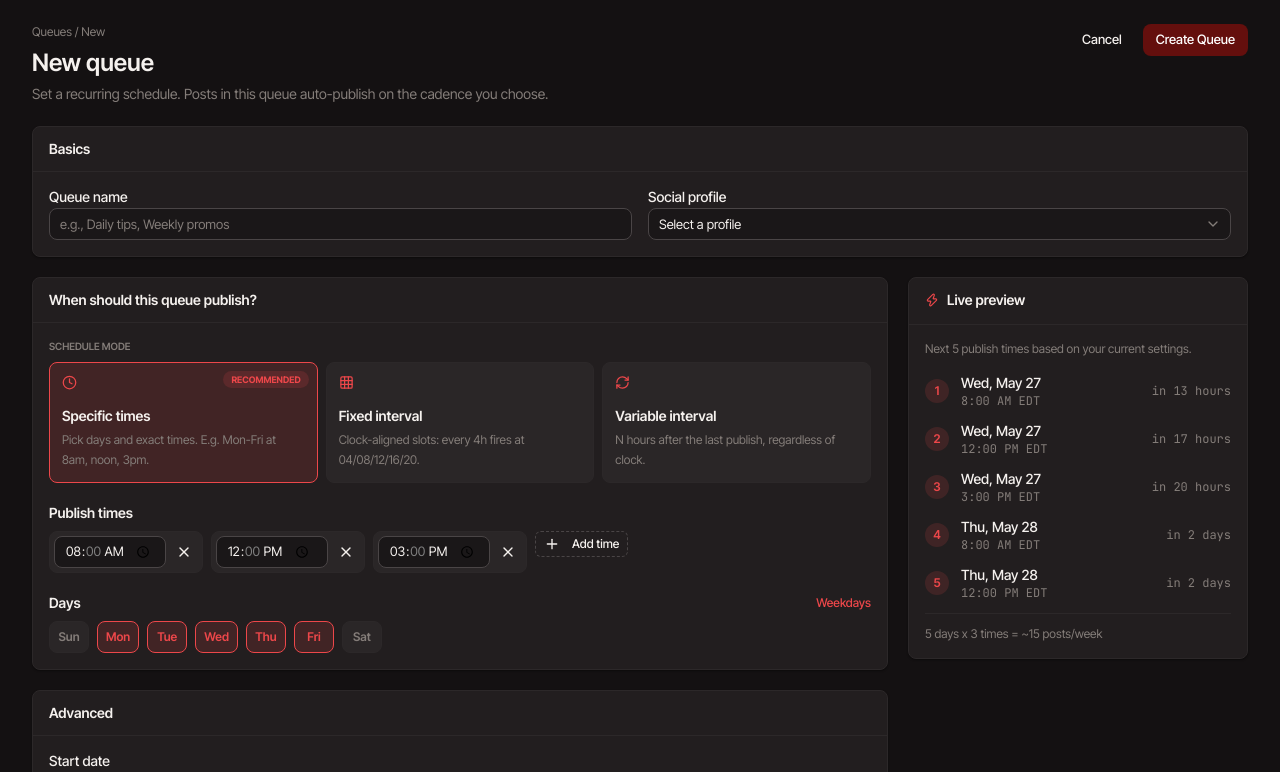
Test: QueueFormPage › rejects manually typed non-hour publish times before saving
Type "CMW Promotions" into the field labelled "Queue name" at x=340, y=224, box [49,208,632,240]
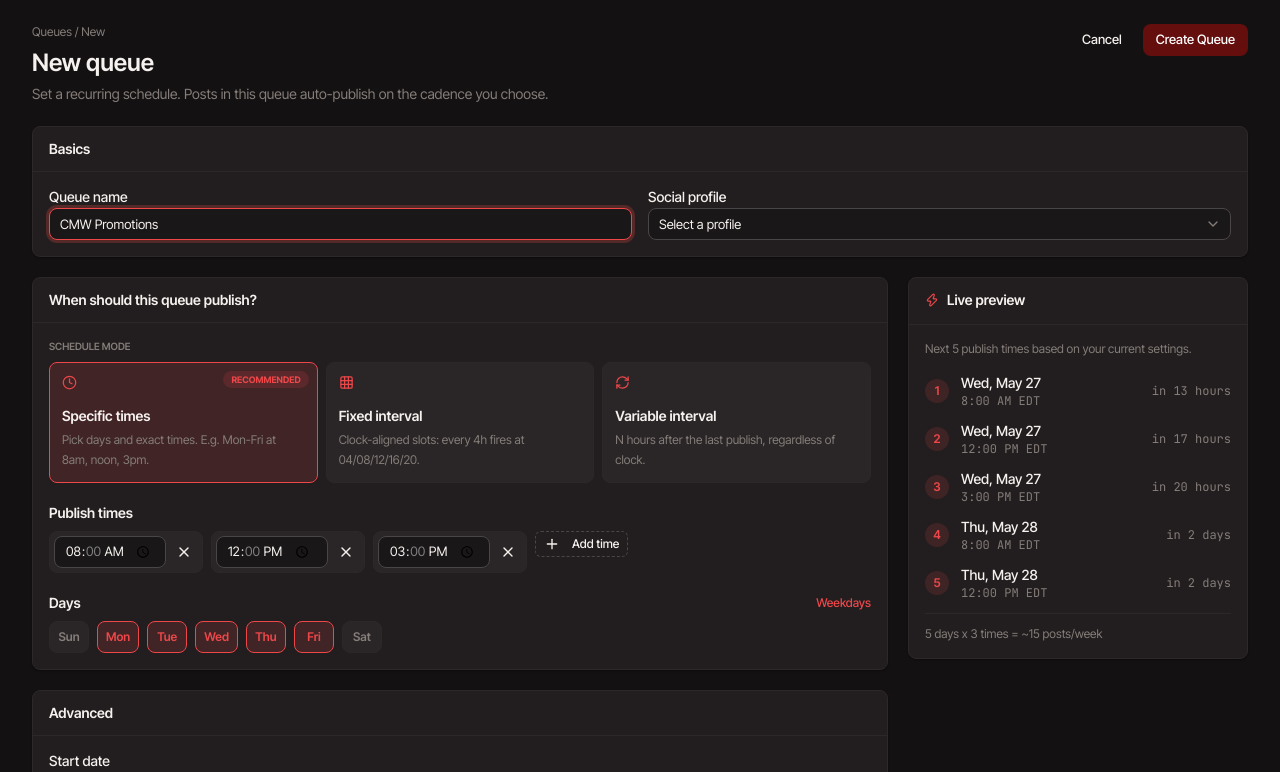
Select "Test Profile (@testprofile)" in the dropdown named "Select a profile" at x=940, y=224, box [648,208,1231,240]
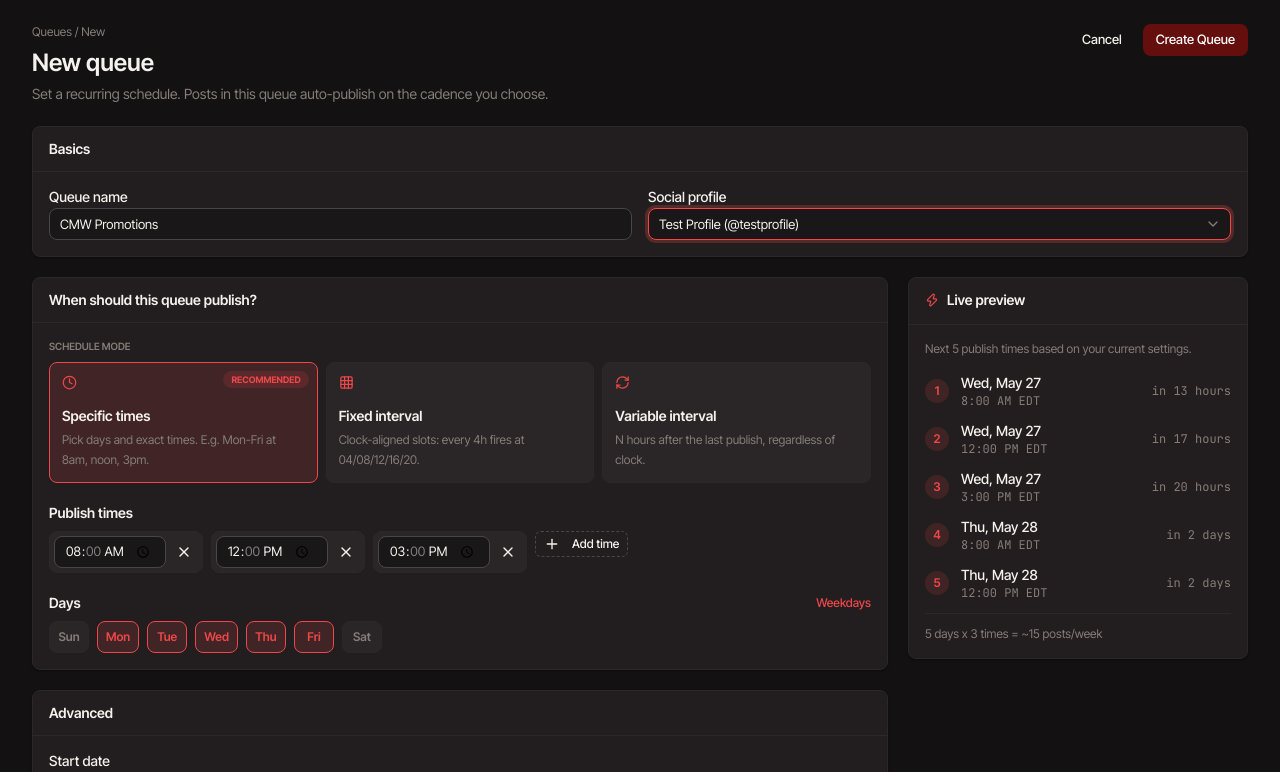
Replace the text in the time field named "Publish time 1" with "10:30" at x=110, y=552, box [54,536,166,568]
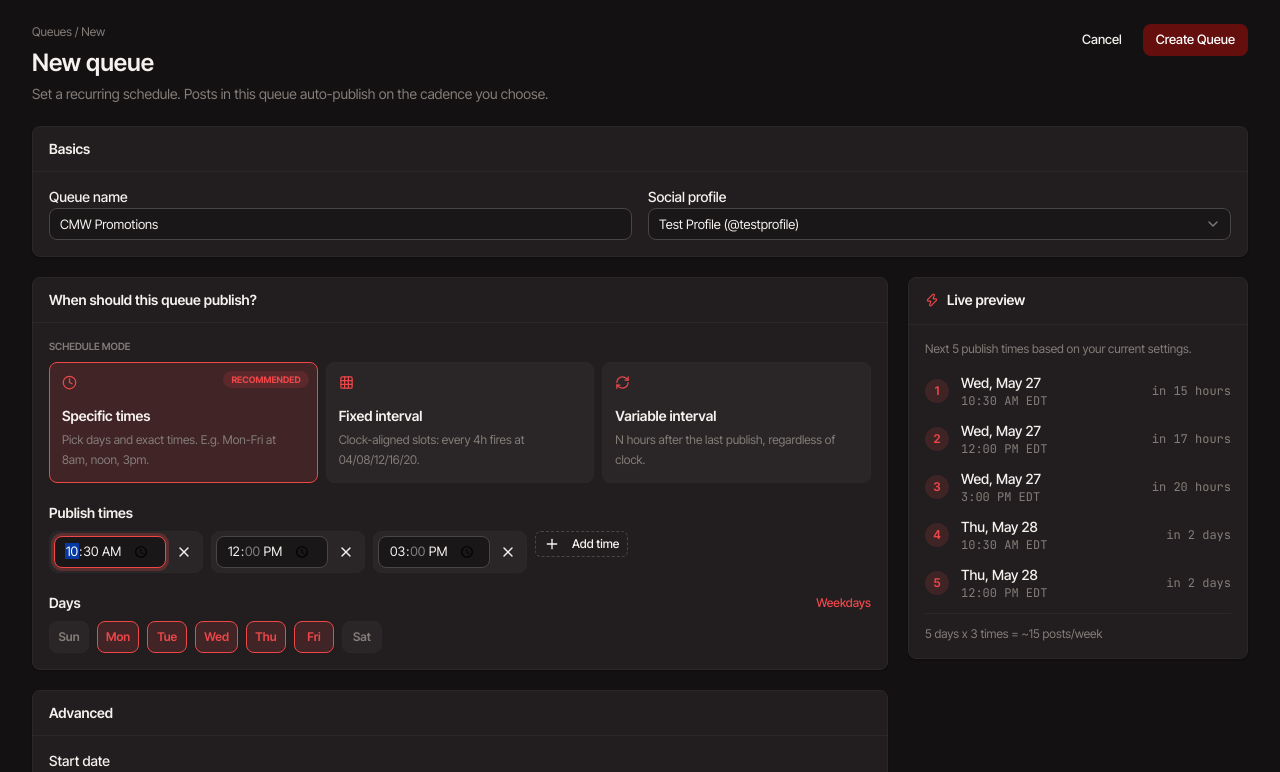
Click the button "Create Queue" at x=1195, y=40, box [1143,24,1248,56]
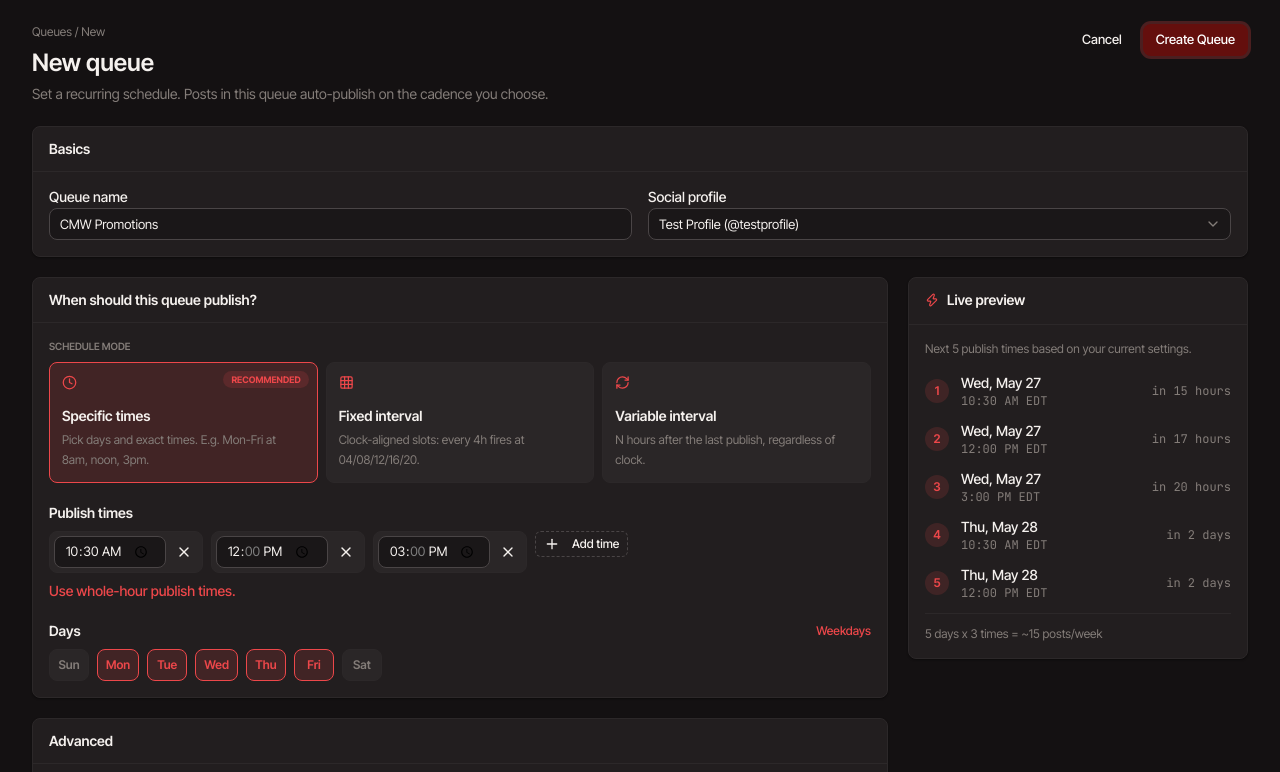
Expected: the text "Use whole-hour publish times." is shown, [49,582,236,599]
